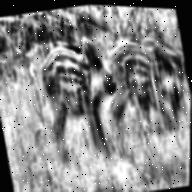boar: (31, 30, 131, 168)
